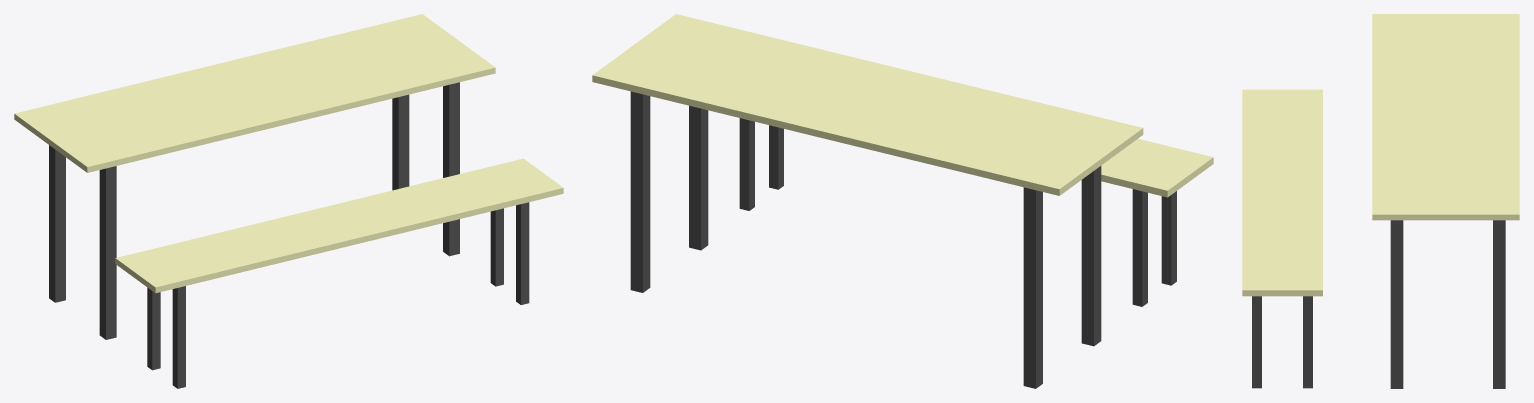
The model's file is table_and_chairs_white_and_black.glb.
3 views of the same model, side by side, from view 1: azimuth 30°, elevation 25°; view 2: azimuth 150°, elevation 25°; view 3: azimuth 270°, elevation 25° (orthographic). The views are drawn at different scales.
Parts seen in each view (by area): view 1: Cube_0, Cube.005_5, Cube.003_3, Cube.002_2, Cube.004_4, Cube.001_1, Cube.007_7, Cube.008_8, Cube.009_9, Cube.006_6; view 2: Cube_0, Cube.005_5, Cube.001_1, Cube.002_2, Cube.003_3, Cube.004_4, Cube.009_9, Cube.006_6, Cube.008_8, Cube.007_7; view 3: Cube_0, Cube.005_5, Cube.004_4, Cube.001_1, Cube.006_6, Cube.007_7.
Boxes of the visible parts, x1,y1,x2,y2 form: Cube_0: [14, 14, 495, 172]; Cube.005_5: [115, 158, 563, 293]; Cube.003_3: [99, 166, 116, 339]; Cube.002_2: [49, 145, 65, 302]; Cube.004_4: [443, 82, 459, 256]; Cube.001_1: [392, 94, 409, 190]; Cube.007_7: [516, 202, 529, 304]; Cube.008_8: [172, 286, 185, 388]; Cube.009_9: [147, 287, 160, 370]; Cube.006_6: [490, 208, 503, 286]; Cube_0: [592, 14, 1143, 195]; Cube.005_5: [1101, 139, 1213, 197]; Cube.001_1: [630, 91, 650, 292]; Cube.002_2: [1023, 187, 1042, 388]; Cube.003_3: [1081, 166, 1101, 346]; Cube.004_4: [689, 105, 708, 250]; Cube.009_9: [1132, 189, 1147, 306]; Cube.006_6: [739, 118, 754, 210]; Cube.008_8: [1161, 191, 1176, 285]; Cube.007_7: [769, 125, 783, 189]; Cube_0: [1372, 14, 1519, 220]; Cube.005_5: [1242, 89, 1322, 296]; Cube.004_4: [1390, 220, 1403, 388]; Cube.001_1: [1493, 220, 1505, 388]; Cube.006_6: [1303, 296, 1312, 388]; Cube.007_7: [1252, 296, 1261, 388].
Bounding box in the file's own units: 4.68 × 2.02 × 2.71.
